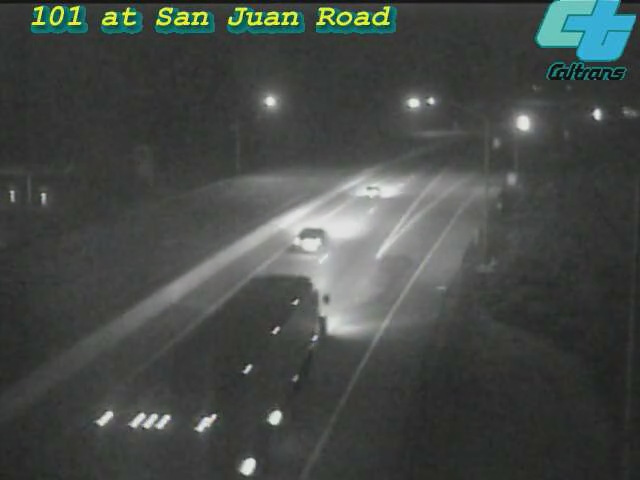vehicle: (198, 308, 308, 418), (334, 151, 414, 231), (275, 196, 355, 276), (500, 97, 550, 147), (573, 89, 623, 139)
